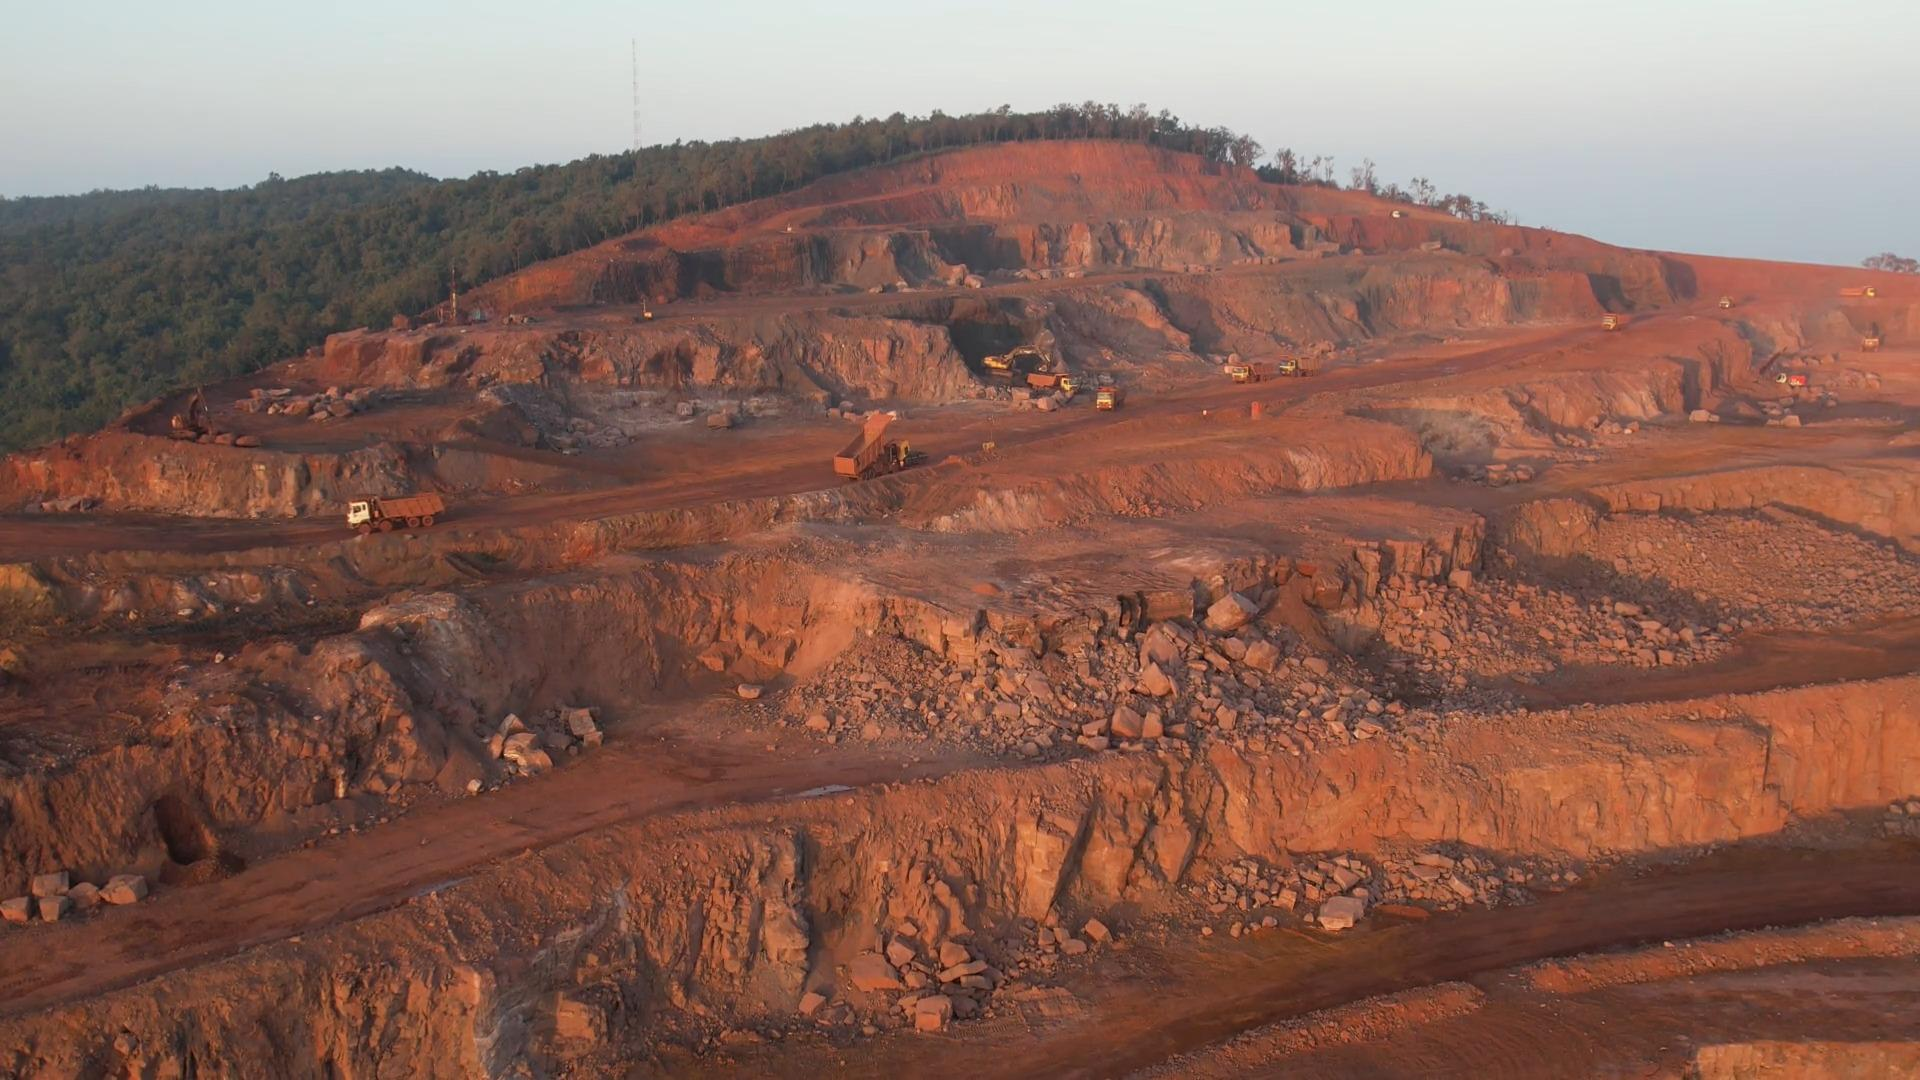excavator: (170, 385, 218, 440), (982, 343, 1023, 377)
